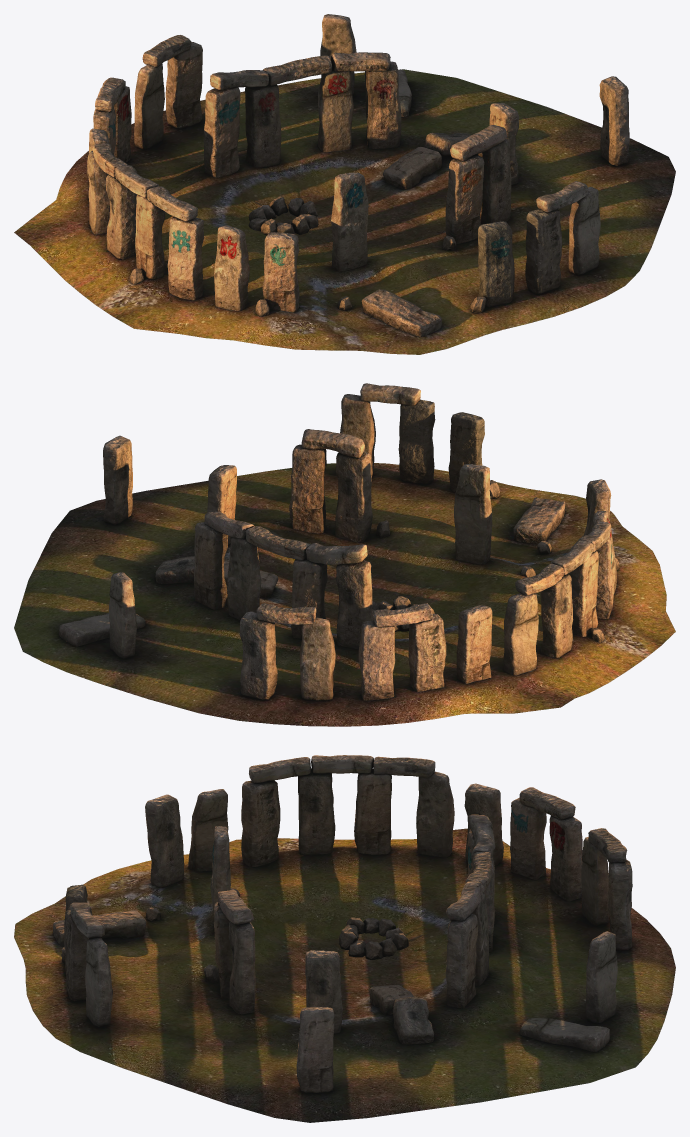
Rendered from stonehenge.glb.
3 renders of one model, top to bottom at view 1: azimuth 30°, elevation 25°; view 2: azimuth 150°, elevation 25°; view 3: azimuth 270°, elevation 25°, orthographic. The views are drawn at different scales.
Visible parts, largest first — view 1: Object_2, Object_3, Object_5, Object_7, Object_9, Object_8, Object_6, Object_4; view 2: Object_2, Object_7, Object_3, Object_5, Object_8, Object_9, Object_4; view 3: Object_2, Object_7, Object_3, Object_8, Object_5, Object_6, Object_9.
Part boxes in pixels (box(x1,y1,x2,y2)): Object_2: box(14, 69, 675, 354); Object_3: box(147, 124, 600, 336); Object_5: box(203, 52, 471, 189); Object_7: box(86, 35, 202, 279); Object_9: box(478, 209, 561, 307); Object_8: box(320, 14, 629, 184); Object_6: box(248, 196, 318, 235); Object_4: box(129, 235, 486, 316); Object_2: box(14, 463, 675, 726); Object_7: box(239, 540, 598, 700); Object_3: box(289, 383, 616, 618); Object_5: box(155, 511, 373, 649); Object_8: box(59, 435, 236, 658); Object_9: box(398, 399, 484, 492); Object_4: box(375, 480, 619, 642); Object_2: box(14, 828, 675, 1122); Object_7: box(298, 755, 632, 950); Object_3: box(53, 757, 310, 1027); Object_8: box(296, 931, 617, 1092); Object_5: box(369, 814, 495, 1044); Object_6: box(339, 917, 408, 959); Object_9: box(64, 884, 88, 1001).
Bounding box in the file's own units: 1470 × 304 × 1405.
8 materials, 8 textured.
